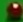brown: (0, 0, 23, 22)
